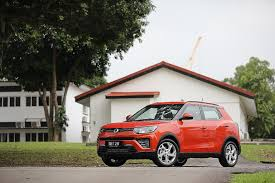car: (92, 97, 246, 181)
